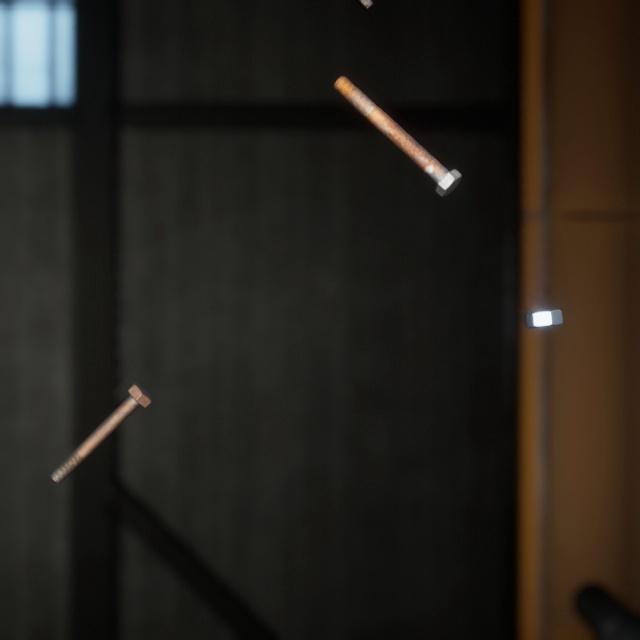bolt: (329, 60, 466, 189), (45, 358, 157, 468)
nut: (521, 287, 567, 314)
